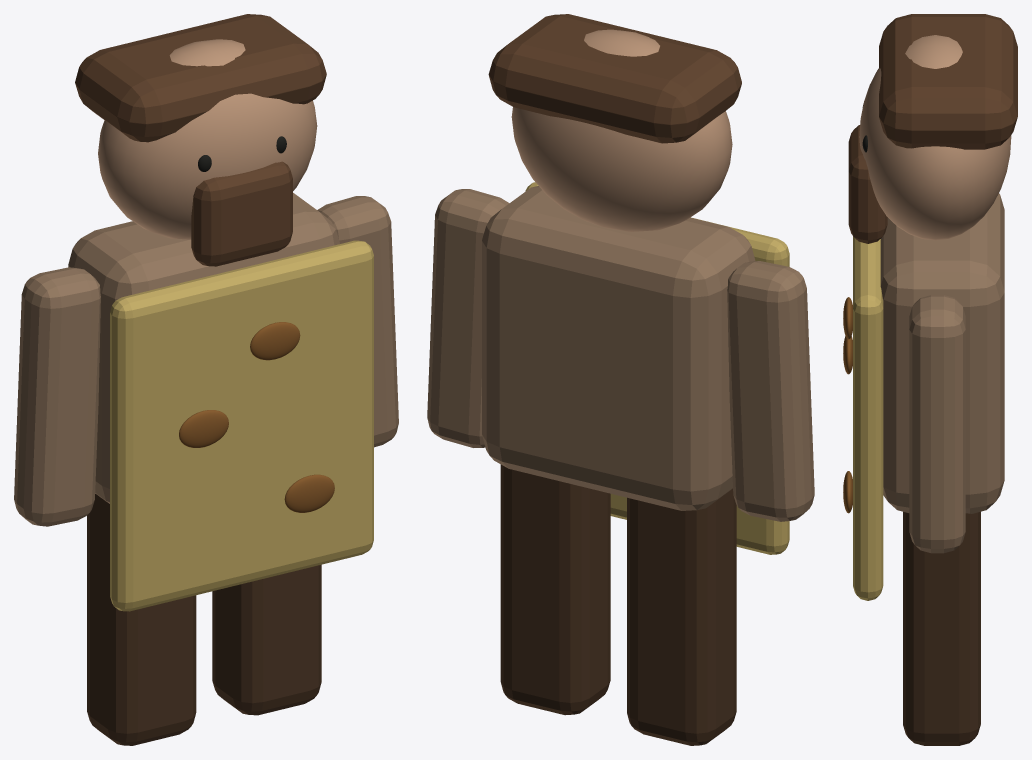
File: big_ed_4175.glb
3 views of the same model, side by side, from view 1: azimuth 30°, elevation 25°; view 2: azimuth 150°, elevation 25°; view 3: azimuth 270°, elevation 25° (orthographic). The views are drawn at different scales.
Visible parts, largest first — view 1: Huge stained smock, Detailed arm, Head, Hair, Booted leg, Booted leg.001, Fitted torso, Heavy beard, Detailed arm.001, Old grease stain.001, Old grease stain.002, Old grease stain; view 2: Fitted torso, Booted leg, Booted leg.001, Hair, Detailed arm, Head, Detailed arm.001, Huge stained smock; view 3: Fitted torso, Hair, Booted leg.001, Detailed arm.001, Head, Huge stained smock, Heavy beard, Old grease stain.002, Old grease stain.001, Old grease stain.
Part boxes in pixels (x1,y1,x2,y2): Huge stained smock: (110, 240, 373, 611); Detailed arm: (14, 267, 100, 526); Head: (98, 39, 317, 239); Hair: (75, 14, 326, 142); Booted leg: (87, 494, 196, 745); Booted leg.001: (212, 564, 321, 715); Fitted torso: (68, 193, 339, 503); Heavy beard: (191, 161, 292, 266); Detailed arm.001: (317, 196, 398, 447); Old grease stain.001: (284, 474, 334, 512); Old grease stain.002: (250, 322, 300, 360); Old grease stain: (179, 410, 228, 447); Fitted torso: (482, 186, 755, 510); Booted leg: (627, 488, 736, 745); Booted leg.001: (500, 464, 610, 715); Hair: (488, 14, 741, 143); Detailed arm: (727, 261, 814, 521); Head: (511, 29, 732, 231); Detailed arm.001: (427, 189, 509, 447); Huge stained smock: (525, 182, 789, 554); Fitted torso: (880, 193, 1004, 513); Hair: (879, 14, 1017, 149); Booted leg.001: (903, 511, 980, 745); Detailed arm.001: (909, 295, 965, 553); Head: (859, 35, 1011, 240); Huge stained smock: (853, 236, 883, 600); Heavy beard: (848, 125, 887, 243); Old grease stain.002: (843, 297, 852, 339); Old grease stain.001: (843, 471, 852, 513); Old grease stain: (843, 336, 852, 374).
Bounding box in the file's own units: 1.93 × 3.34 × 0.805.
